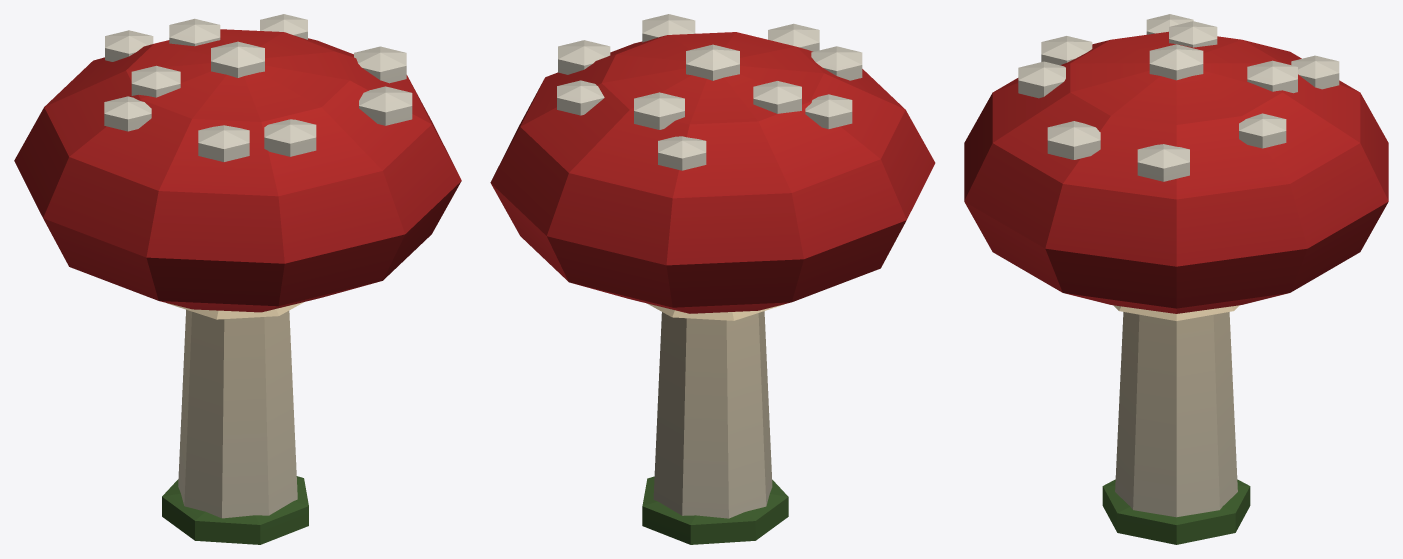
The model's file is toadstool_big.glb.
3 renders of one model, left to right at view 1: azimuth 30°, elevation 25°; view 2: azimuth 150°, elevation 25°; view 3: azimuth 270°, elevation 25°, orthographic.
Visible parts, largest first — view 1: toadstool_big; view 2: toadstool_big; view 3: toadstool_big.
Boxes of the visible parts, x1,y1,x2,y2 form: toadstool_big: (14, 14, 461, 544); toadstool_big: (490, 14, 935, 544); toadstool_big: (964, 14, 1388, 544).
Size of the model in its own units: 2.3 by 2.69 by 2.19.
